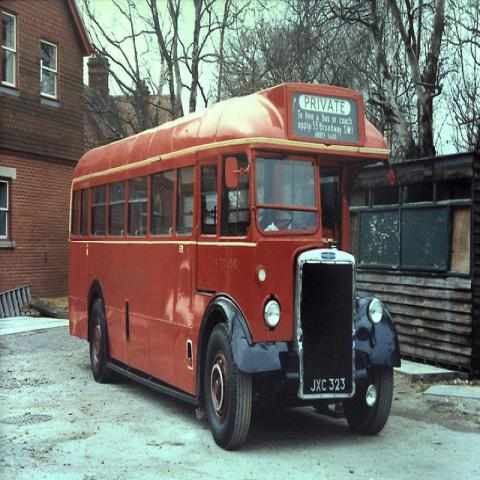bus: (64, 88, 406, 446)
